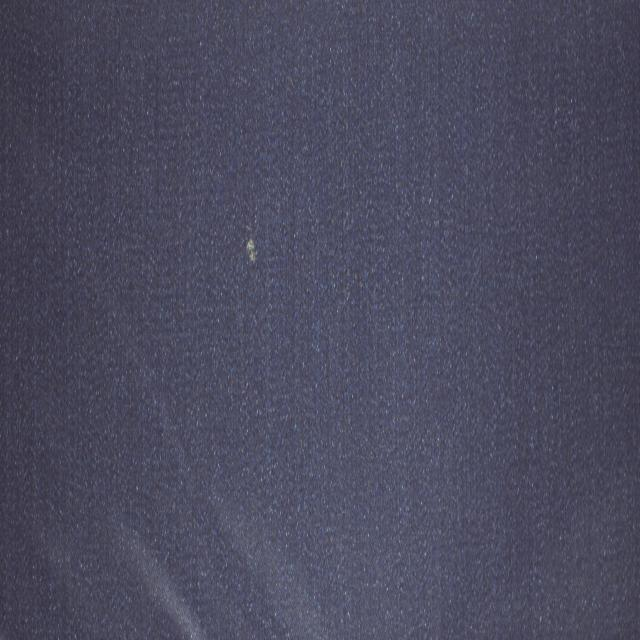Stain: (246, 239, 256, 262)
